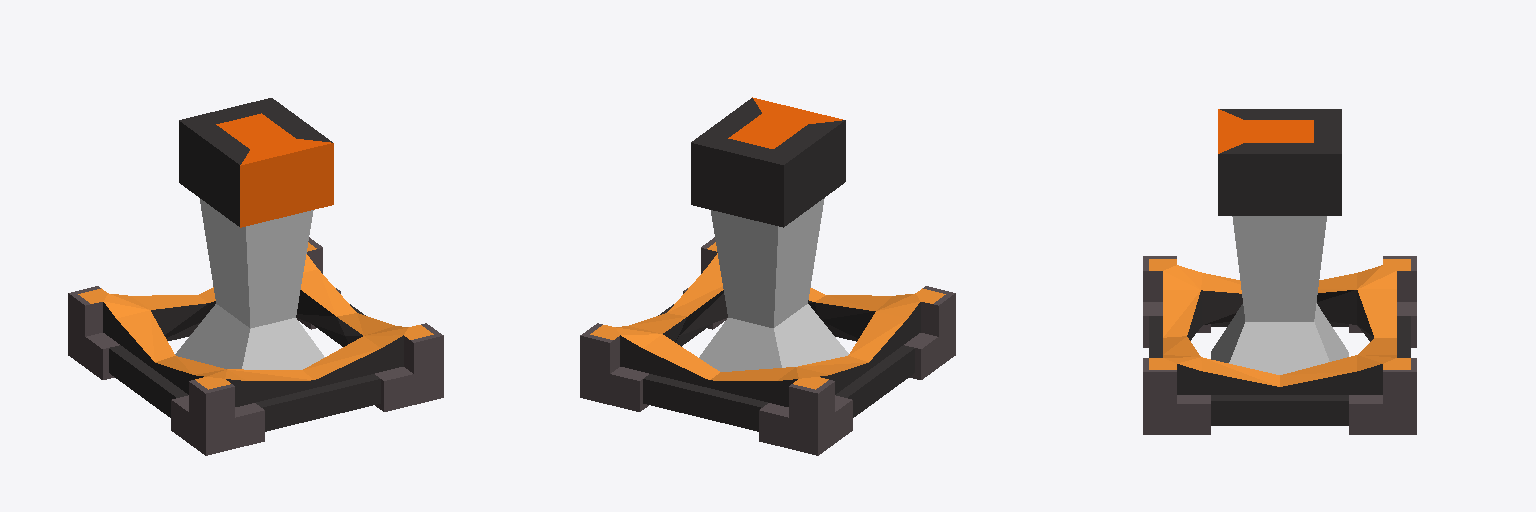
The model's file is fixedReflectorHalf.obj.
3 renders of one model, left to right at view 1: azimuth 30°, elevation 25°; view 2: azimuth 150°, elevation 25°; view 3: azimuth 270°, elevation 25°, orthographic.
Visible parts, largest first — view 1: fixedReflectorHalf; view 2: fixedReflectorHalf; view 3: fixedReflectorHalf.
Part boxes in pixels (x1,y1,x2,y2): fixedReflectorHalf: (68,98,443,455); fixedReflectorHalf: (580,97,955,455); fixedReflectorHalf: (1143,109,1416,434).
Bounding box in the file's own units: 1 × 1 × 1.